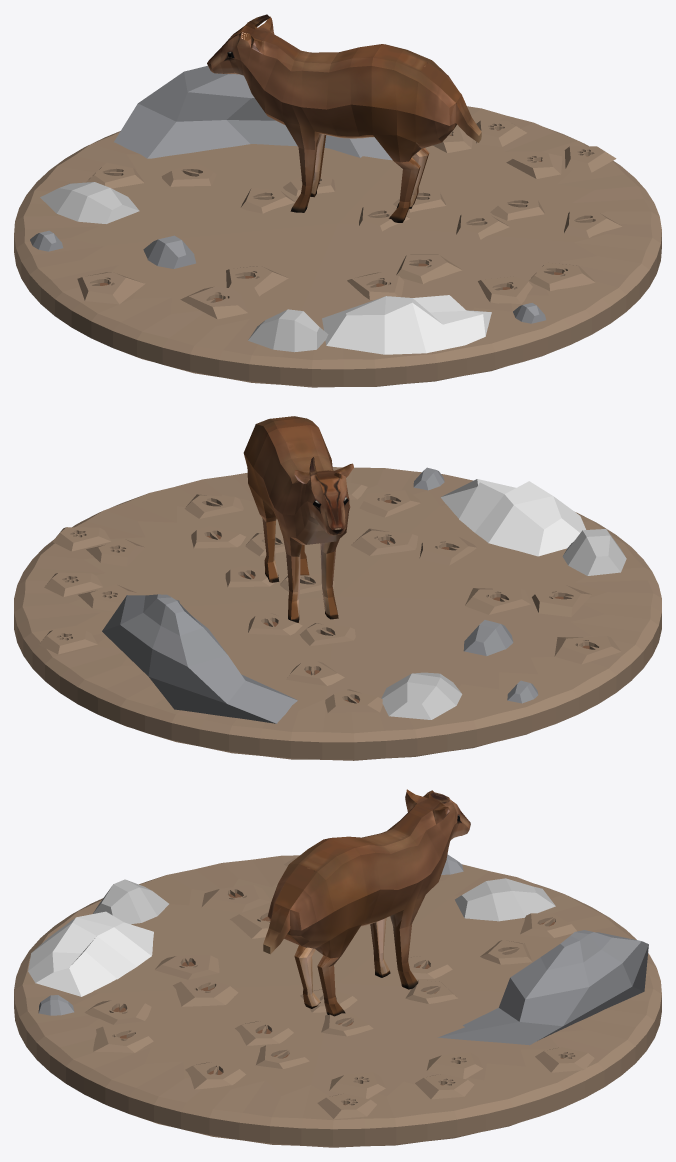
The model's file is meta ar scene2.fbx.
3 renders of one model, top to bottom at view 1: azimuth 30°, elevation 25°; view 2: azimuth 150°, elevation 25°; view 3: azimuth 270°, elevation 25°, orthographic.
Visible parts, largest first — view 1: Cylinder.018, Object_1, Cube, Cube.004, Cube.005, Cube.001, Object_3.008, Object_1.007, Object_3.007, Object_3.006, Object_3.001, Cube.006 (+14 smaller); view 2: Cylinder.018, Object_1, Cube, Cube.004, Cube.005, Cube.001, Object_3.008, Object_3.007, Object_1.007, Object_3.006, Cube.006, Object_1.006 (+17 smaller); view 3: Cylinder.018, Object_1, Cube, Cube.004, Cube.005, Cube.001, Object_1.007, Object_3.006, Object_3.001, Object_1.006, Object_1.002, Object_3.005 (+14 smaller).
Part boxes in pixels (<box>): Cylinder.018: <box>14,106,661,387</box>; Object_1: <box>207,14,481,222</box>; Cube: <box>114,65,392,160</box>; Cube.004: <box>322,295,491,354</box>; Cube.005: <box>40,182,139,223</box>; Cube.001: <box>248,309,328,352</box>; Object_3.008: <box>77,272,145,304</box>; Object_1.007: <box>180,286,247,319</box>; Object_3.007: <box>226,266,288,296</box>; Object_3.006: <box>396,254,461,283</box>; Object_3.001: <box>529,262,595,291</box>; Cube.006: <box>143,235,195,268</box>; Cylinder.018: <box>14,467,661,760</box>; Object_1: <box>243,416,353,622</box>; Cube: <box>102,594,297,723</box>; Cube.004: <box>440,479,585,556</box>; Cube.005: <box>381,672,462,719</box>; Cube.001: <box>562,529,626,575</box>; Object_3.008: <box>554,636,621,664</box>; Object_3.007: <box>465,588,530,614</box>; Object_1.007: <box>532,585,591,617</box>; Object_3.006: <box>351,528,417,555</box>; Cube.006: <box>463,620,513,656</box>; Object_1.006: <box>419,536,476,565</box>; Cylinder.018: <box>14,855,661,1147</box>; Object_1: <box>263,789,470,1016</box>; Cube: <box>438,930,648,1045</box>; Cube.004: <box>28,911,153,996</box>; Cube.005: <box>455,878,555,921</box>; Cube.001: <box>93,879,168,924</box>; Object_1.007: <box>202,885,271,912</box>; Object_3.006: <box>173,978,238,1006</box>; Object_3.001: <box>93,1025,153,1052</box>; Object_1.006: <box>155,955,219,979</box>; Object_1.002: <box>84,1000,151,1024</box>; Object_3.005: <box>185,1062,245,1089</box>.
Bounding box in the file's own units: 640 × 233 × 640.
